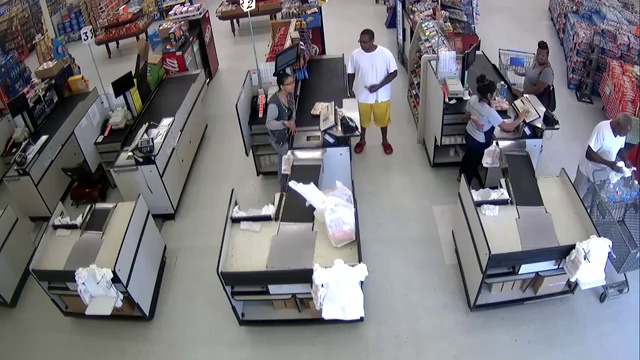face: (358, 34, 372, 50), (282, 79, 294, 93), (535, 51, 546, 64)
